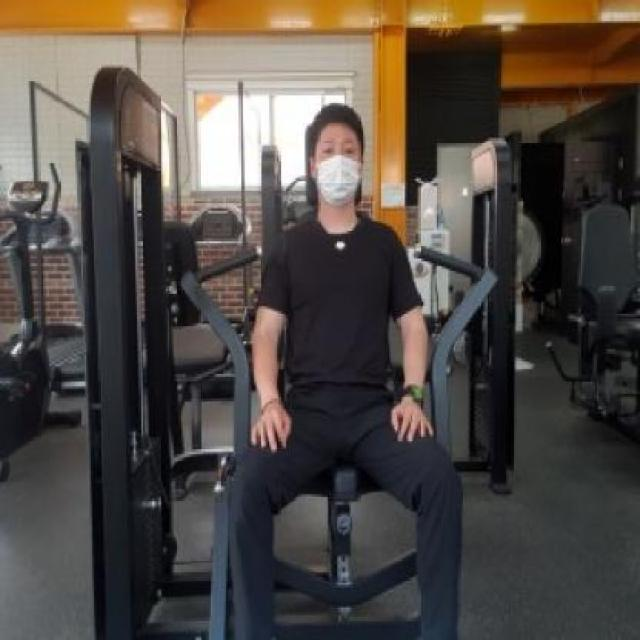Chest Press machine: (92, 55, 505, 640)
